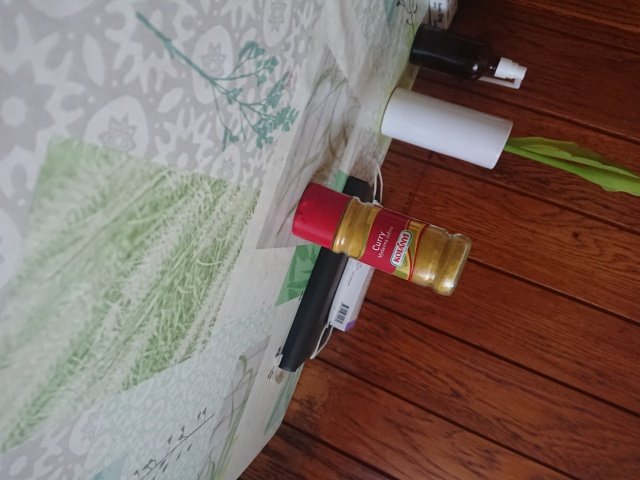Kotanyi Curry Spices Mix 70g: (289, 178, 474, 298)
